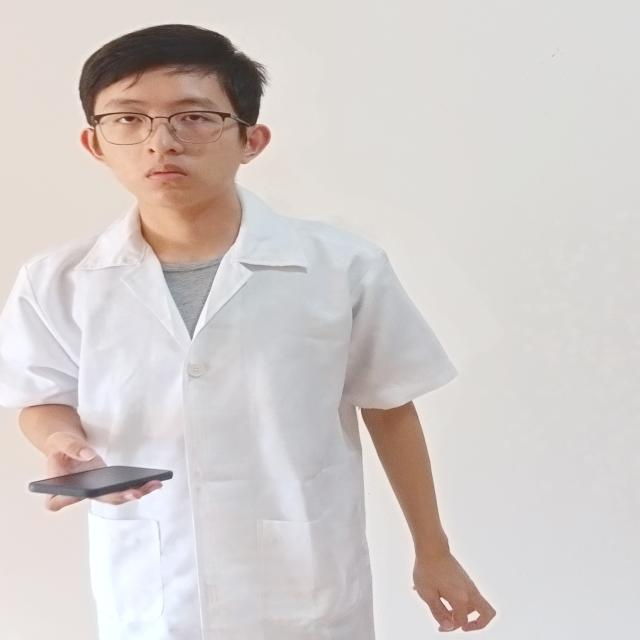person_with_labcoat: (0, 25, 495, 640)
